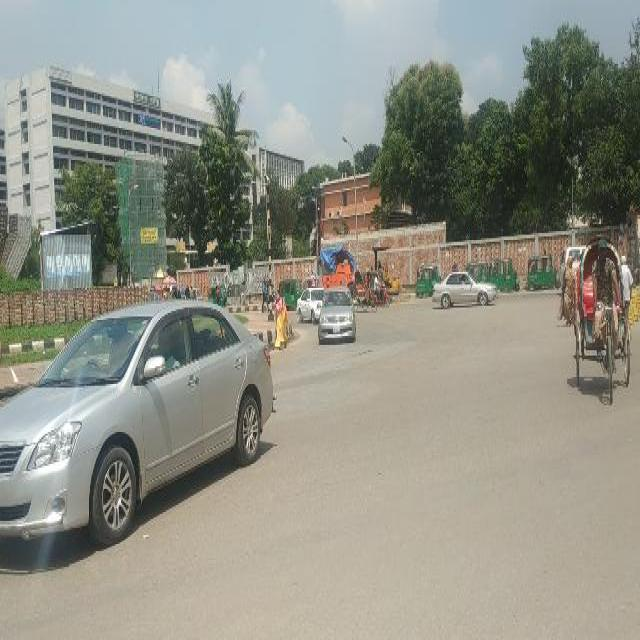car: (0, 308, 277, 551), (430, 272, 498, 308), (318, 290, 354, 346), (300, 284, 324, 324)
rickshaw: (573, 236, 631, 404), (350, 270, 378, 313)
scooter: (378, 281, 390, 306)
three wheelers -CNG-: (526, 255, 560, 293), (489, 259, 518, 289), (278, 279, 298, 311), (414, 264, 431, 298), (225, 281, 247, 306), (206, 282, 224, 300)
